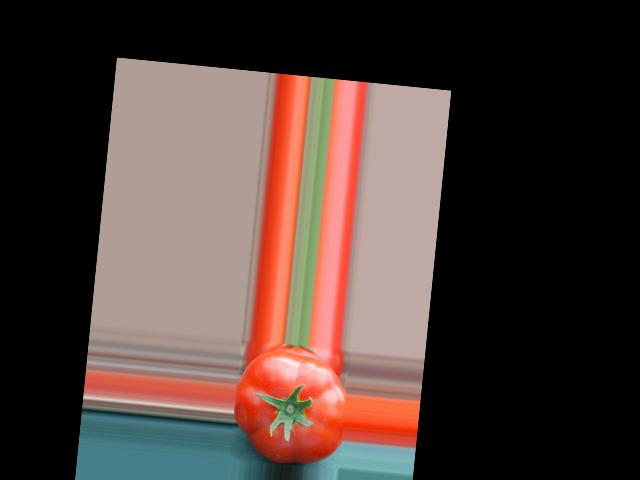tomato: (228, 346, 350, 468)
